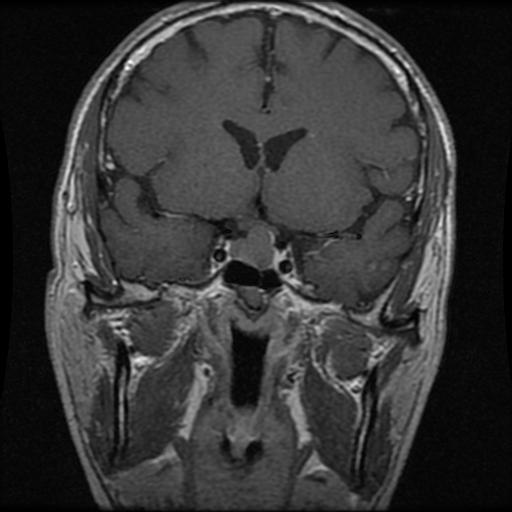Pituirity_tumour: (225, 220, 278, 269)
